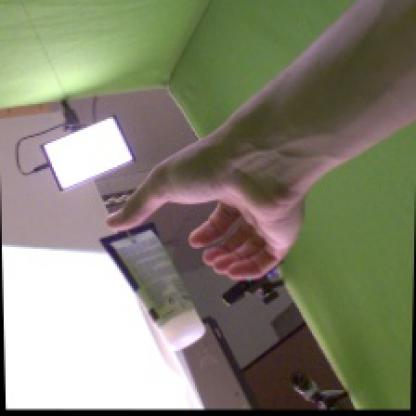Hand: (105, 138, 303, 280)
